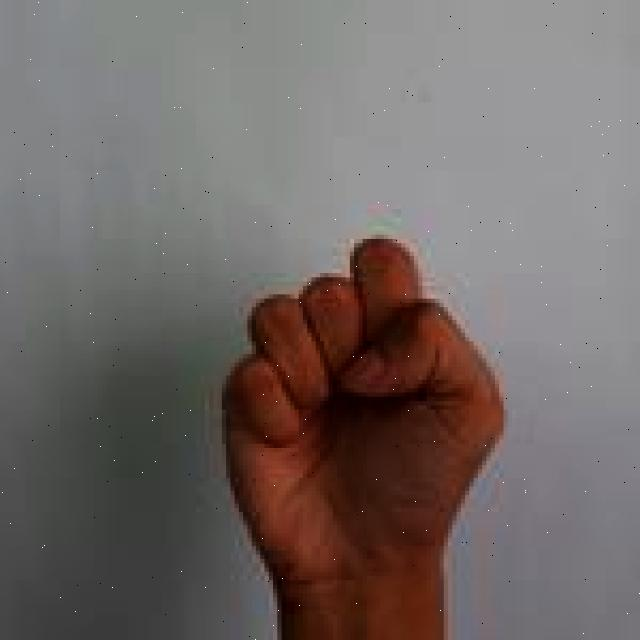S: (222, 234, 514, 640)
